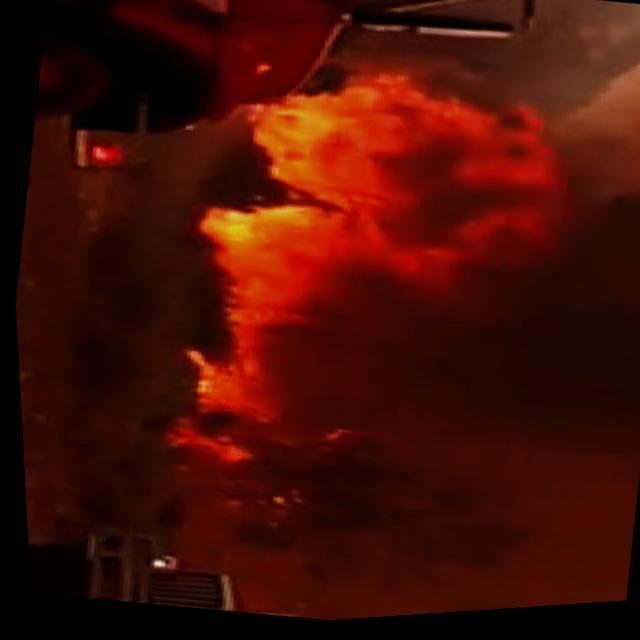fire: (134, 52, 621, 539)
